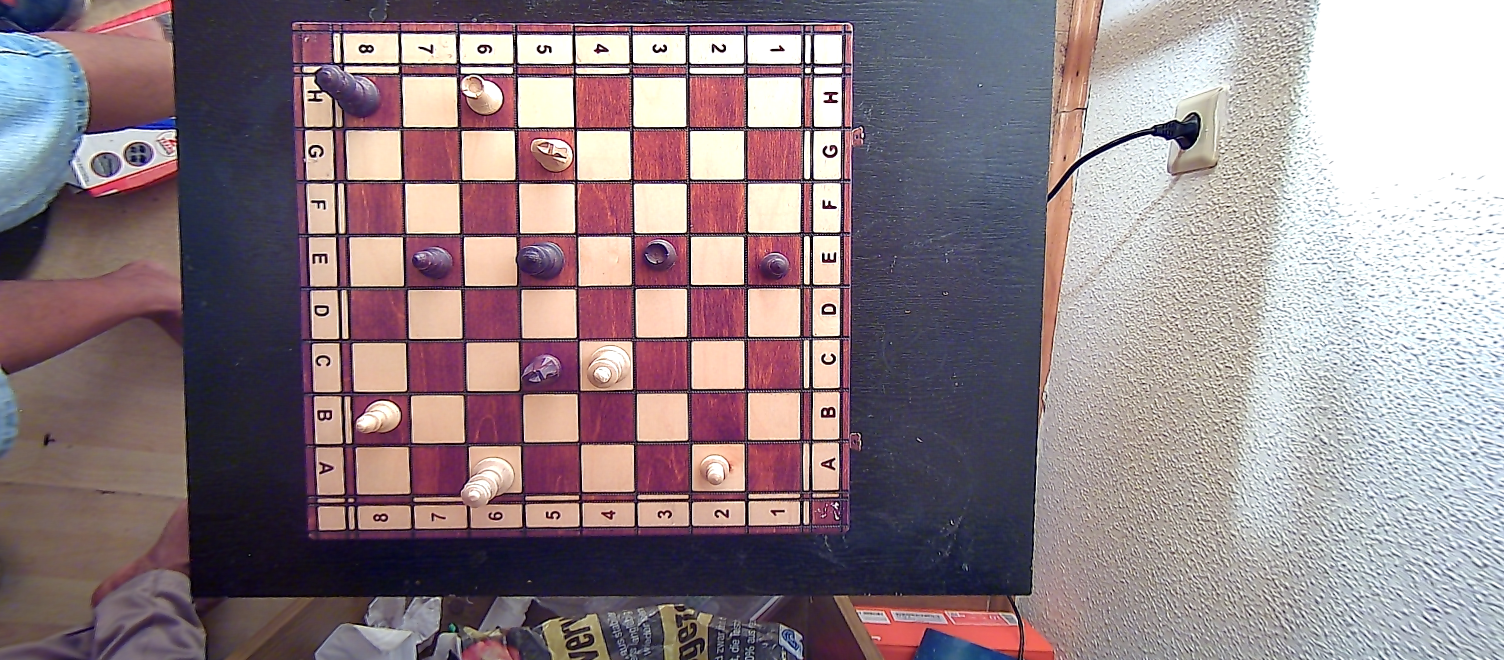black-bishop: (408, 242, 455, 281)
black-king: (515, 241, 568, 283)
black-knight: (519, 351, 564, 393)
black-pawn: (760, 247, 792, 283)
black-queen: (312, 59, 384, 121)
black-rook: (637, 237, 678, 278)
white-bishop: (353, 398, 404, 438)
white-king: (585, 344, 631, 389)
white-knight: (527, 134, 573, 175)
white-pawn: (694, 450, 734, 487)
white-queen: (457, 456, 517, 510)
white-rook: (458, 73, 505, 119)
